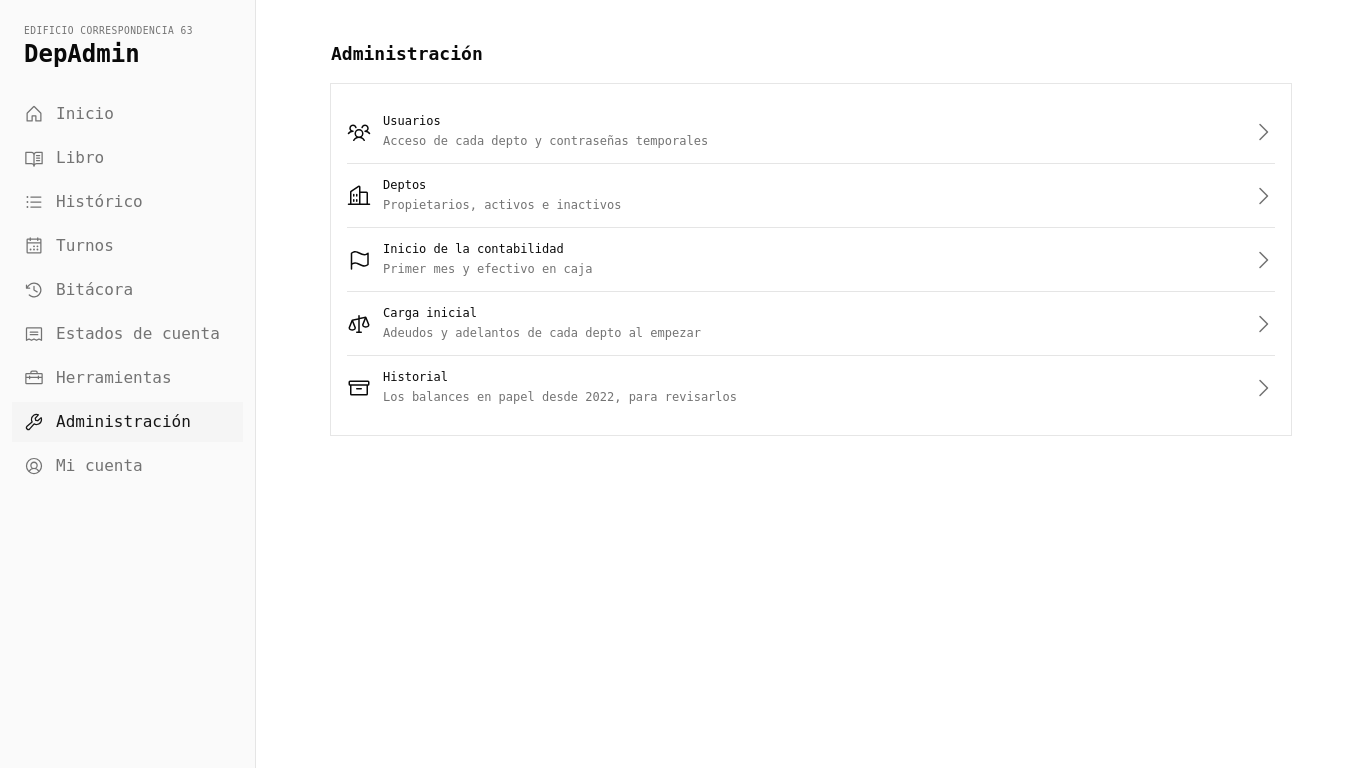
OpeningBalancesPage › is reached from the admin page
Click the link "Carga inicial Adeudos y adelantos de cada depto al empezar".
click(430, 313)  # box [347,306,1275,340]
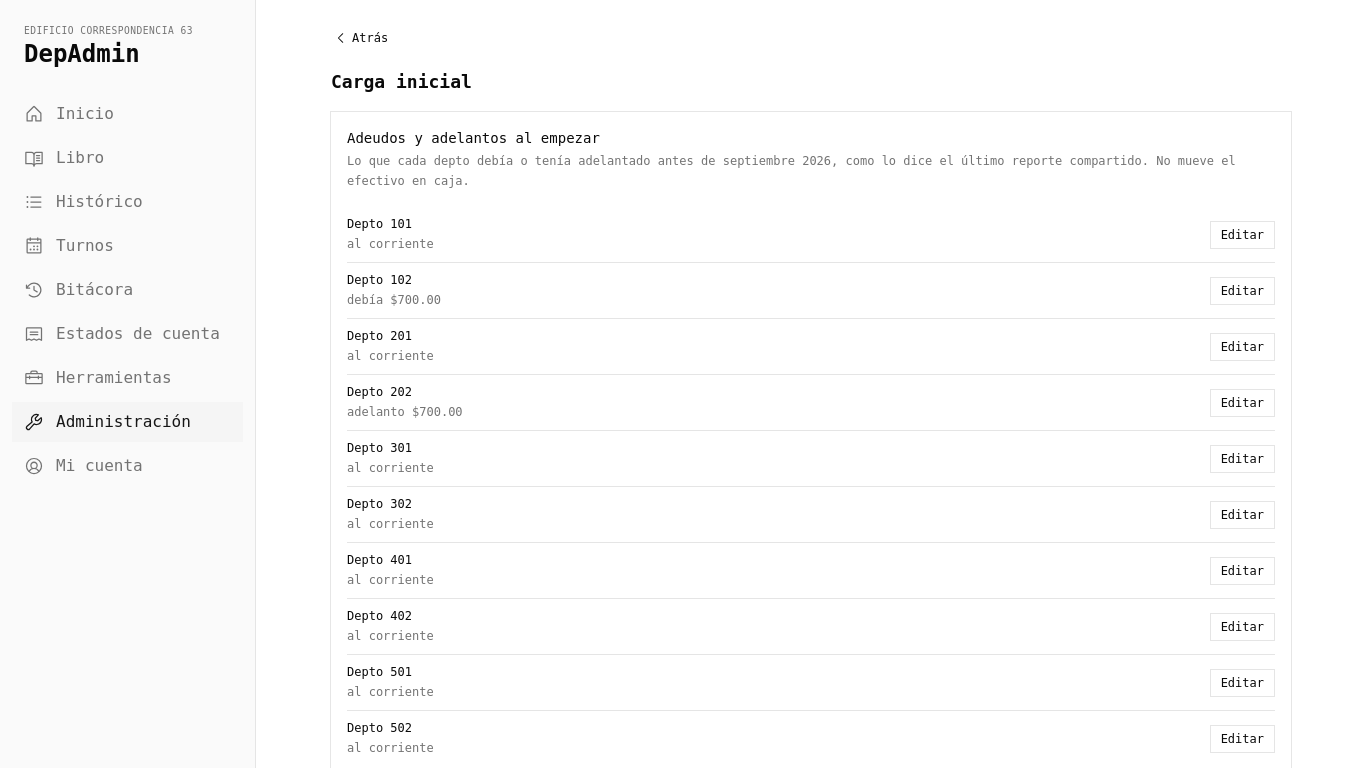
Expected: the heading "Carga inicial" is shown, [331,71,472,92]
